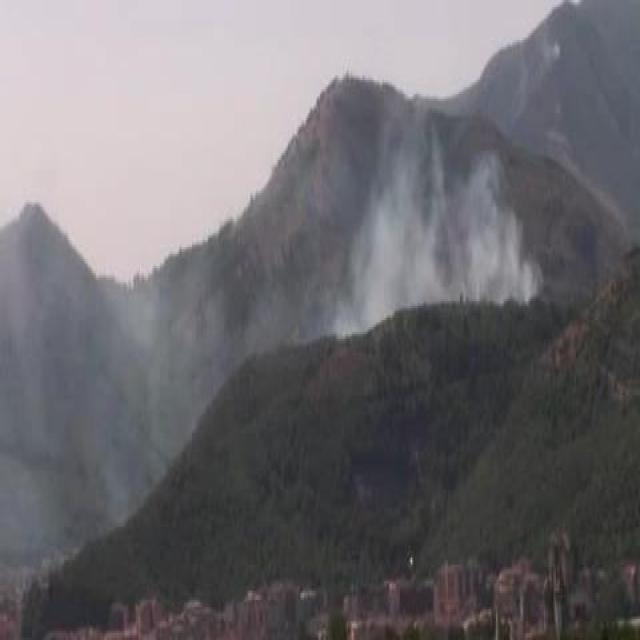Smoke: (333, 146, 538, 306)
